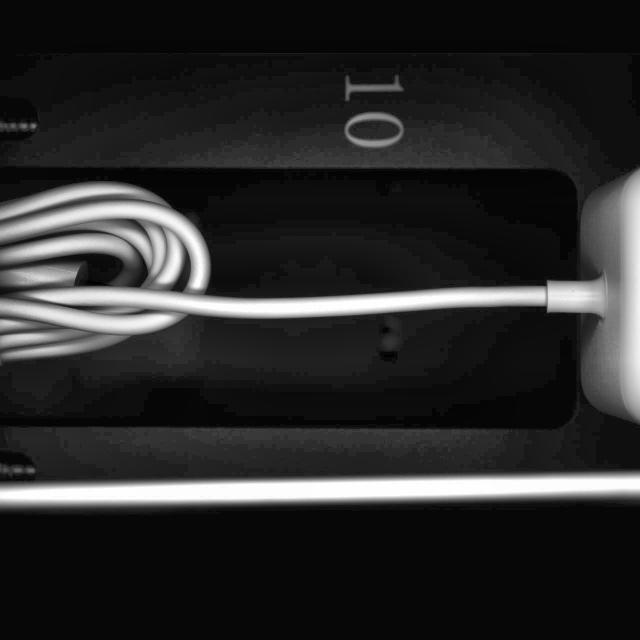Cable: (0, 169, 640, 430)
